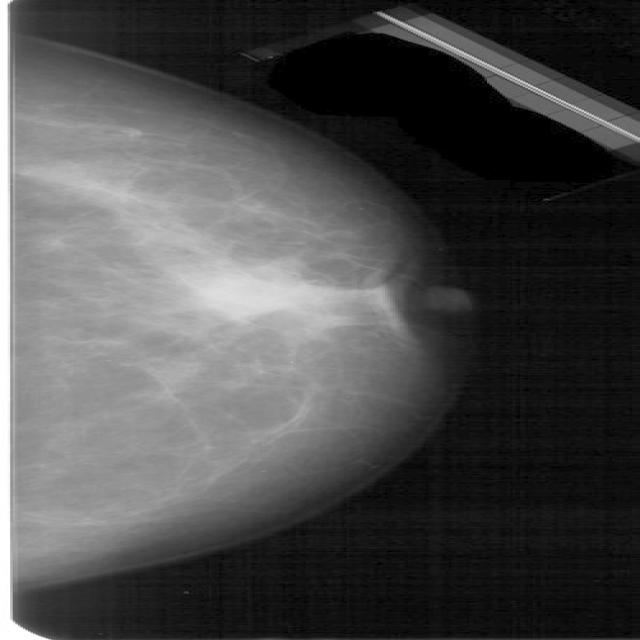tumour: (186, 256, 334, 314)
